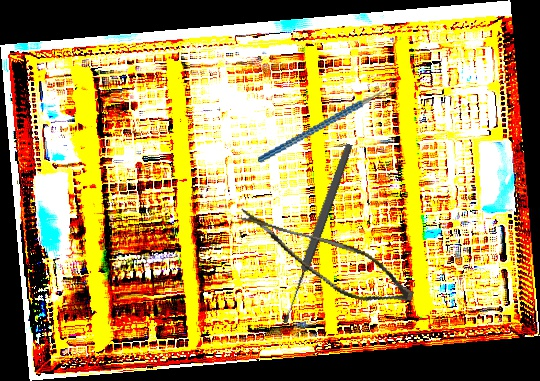Chopper: (247, 73, 407, 164)
Micro Scissor: (223, 207, 424, 313)
Surgical Spoon: (279, 142, 355, 325)
